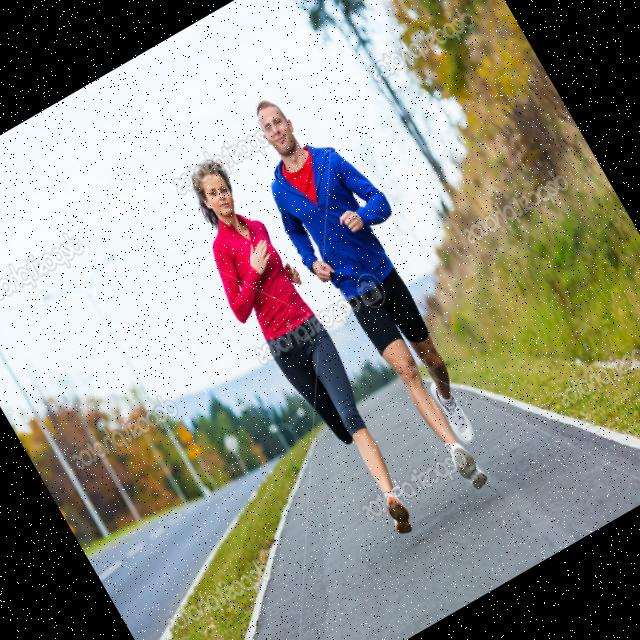Person: (225, 74, 534, 508), (160, 146, 438, 554)
